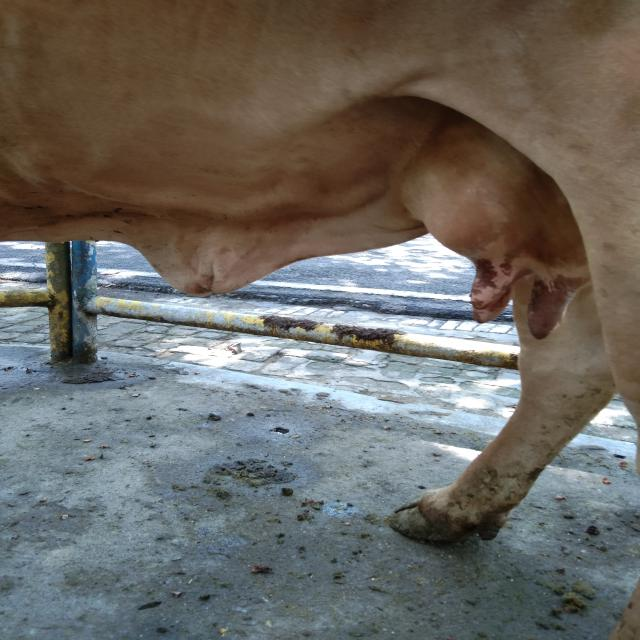Hoof: (386, 486, 507, 545)
